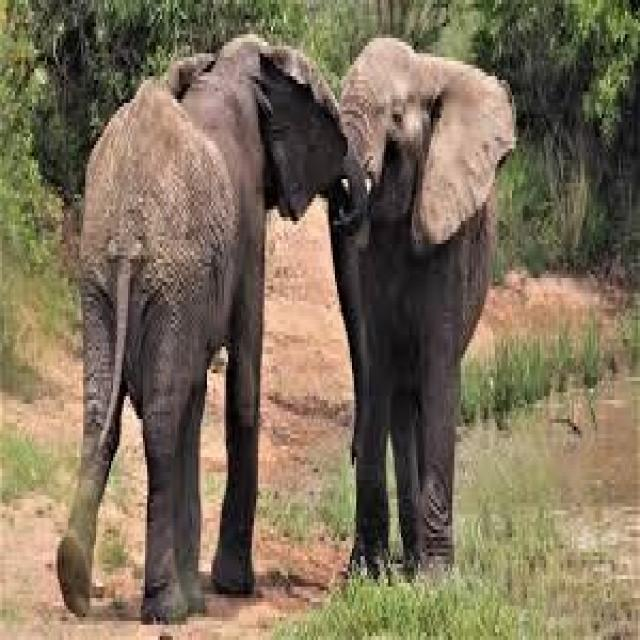Elephant: (322, 23, 512, 579)
